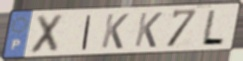7: (165, 8, 199, 50)
I: (80, 14, 93, 52)
K: (132, 11, 164, 49), (99, 13, 130, 50)
L: (199, 9, 226, 46)
X: (28, 13, 66, 55)
